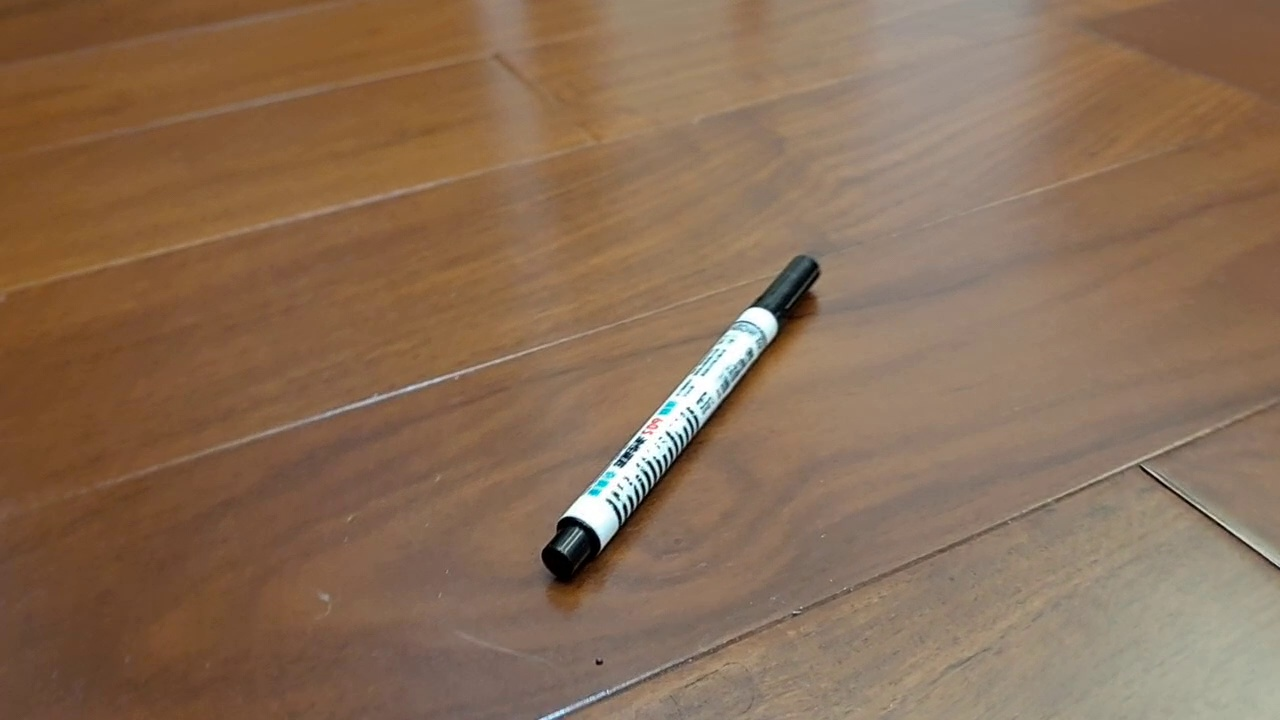pen: (541, 254, 822, 584)
